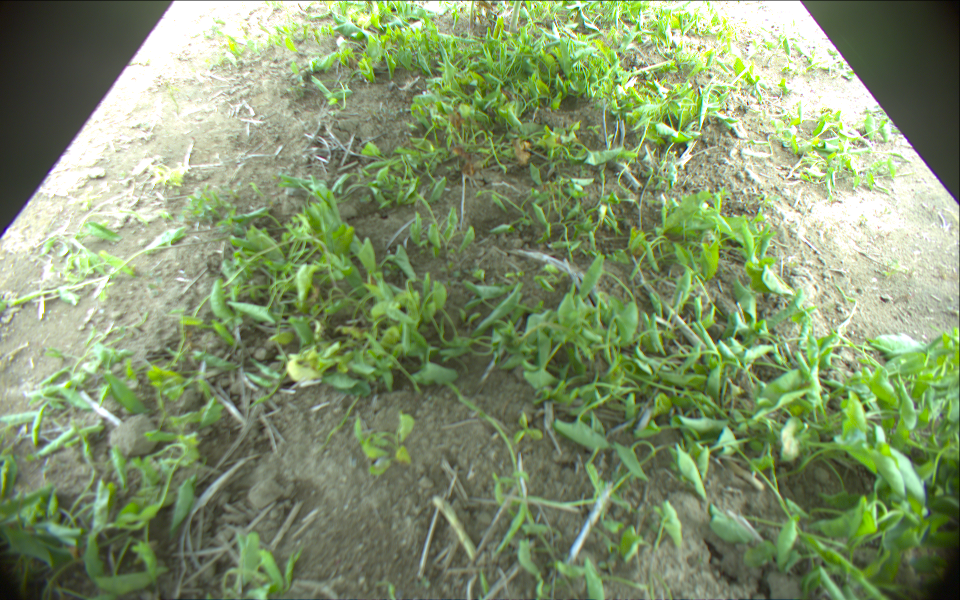aspa: (508, 1, 522, 33)
